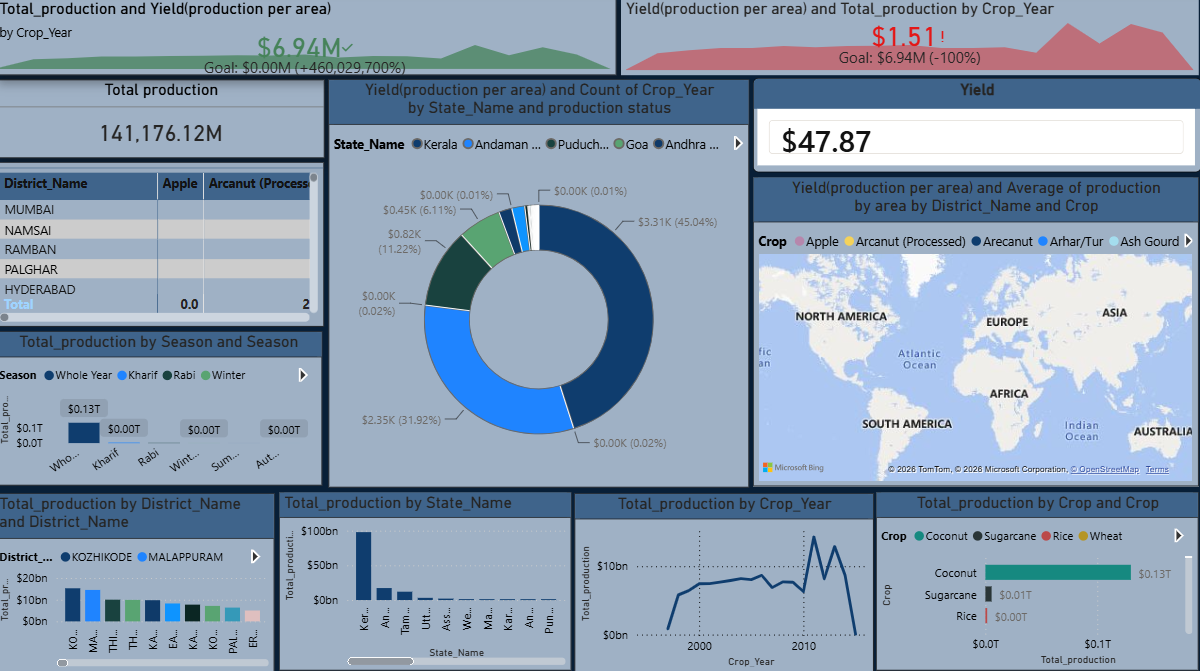

Layout of this report page (visuals, bound fields, positions):
{"tool":"powerbi","page":{"name":"Page 1","canvas":[1280,720],"ordinal":0},"visuals":[{"type":"card","title":"Total production","fields":{"Values":["crop_production.Total_production"]},"box":[3.2,90.7,347,83],"z":0},{"type":"columnChart","fields":{"Y":["crop_production.Total_production"],"Category":["crop_production.District_Name"],"Series":["crop_production.District_Name"]},"box":[0,529.7,297.4,189.3],"z":1000},{"type":"columnChart","fields":{"Y":["crop_production.Total_production"],"Category":["crop_production.State_Name"]},"box":[302.2,528.1,310,189.3],"z":2000},{"type":"lineChart","fields":{"Category":["crop_production.Crop_Year"],"Y":["crop_production.Total_production"]},"box":[615.6,529.7,317,189.3],"z":3000},{"type":"columnChart","fields":{"Category":["crop_production.Season"],"Y":["crop_production.Total_production"],"Series":["crop_production.Season"]},"box":[0,357.9,348,163],"z":4000},{"type":"barChart","fields":{"Category":["crop_production.Crop"],"Y":["crop_production.Total_production"],"Series":["crop_production.Crop"]},"box":[935.3,528.1,342,189.3],"z":5000},{"type":"kpi","fields":{"TrendLine":["crop_production.Crop_Year"],"Indicator":["crop_production.Total_production"],"Goal":["crop_production.Yield(production per area)"]},"box":[0,4.8,660,81],"z":6000},{"type":"donutChart","fields":{"Y":["crop_production.Yield(production per area)"],"Category":["crop_production.State_Name"],"Series":["crop_production.production status"]},"box":[354.7,90.7,446,432.6],"z":7000},{"type":"pivotTable","fields":{"Rows":["crop_production.District_Name"],"Columns":["crop_production.Crop"],"Values":["Sum(crop_production.production by area)"]},"box":[0,178.1,349.9,175],"z":8000},{"type":"filledMap","fields":{"Category":["crop_production.District_Name"],"Series":["crop_production.Crop"],"X":["Avg(crop_production.production by area)"],"Y":["crop_production.Yield(production per area)"]},"box":[804.8,194.1,472.4,328],"z":9000},{"type":"kpi","fields":{"Indicator":["crop_production.Yield(production per area)"],"TrendLine":["crop_production.Crop_Year"],"Goal":["crop_production.Total_production"]},"box":[664.9,4.8,612.4,81.1],"z":10000},{"type":"cardVisual","title":"Yield","fields":{"Data":["crop_production.Yield(production per area)"]},"box":[804.8,89.1,475.6,100],"z":11000}]}

Visuals, with their boxes in screenshot pixels (x1, y1, x2, y2), scaled from the page's 1280x720 canvas onto the 1200x671 screenshot:
"Total production" card: bbox(3, 85, 328, 162)
columnChart - crop_production.Total_production x crop_production.District_Name: bbox(0, 494, 279, 670)
columnChart - crop_production.Total_production x crop_production.State_Name: bbox(283, 492, 574, 669)
lineChart - crop_production.Crop_Year x crop_production.Total_production: bbox(577, 494, 874, 670)
columnChart - crop_production.Season x crop_production.Total_production: bbox(0, 334, 326, 485)
barChart - crop_production.Crop x crop_production.Total_production: bbox(877, 492, 1197, 669)
kpi - crop_production.Crop_Year x crop_production.Total_production: bbox(0, 4, 619, 80)
donutChart - crop_production.Yield(production per area) x crop_production.State_Name: bbox(333, 85, 751, 488)
pivotTable - crop_production.District_Name x crop_production.Crop: bbox(0, 166, 328, 329)
filledMap - crop_production.District_Name x crop_production.Crop: bbox(754, 181, 1197, 487)
kpi - crop_production.Yield(production per area) x crop_production.Crop_Year: bbox(623, 4, 1197, 80)
"Yield" cardVisual: bbox(754, 83, 1199, 176)
